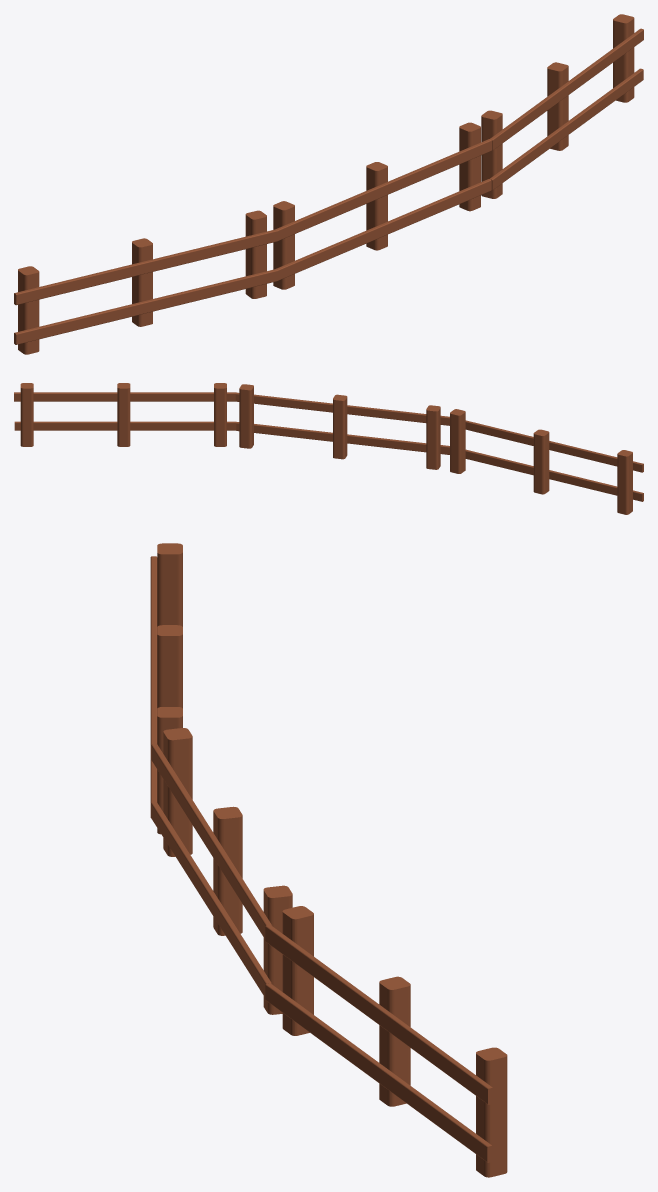
Rendered from long_fence.glb.
3 renders of one model, top to bottom at view 1: azimuth 30°, elevation 25°; view 2: azimuth 150°, elevation 25°; view 3: azimuth 270°, elevation 25°, orthographic. The views are drawn at different scales.
Visible parts, largest first — view 1: Fence.003, Fence.001, Fence.002; view 2: Fence.002, Fence.001, Fence.003; view 3: Fence.002, Fence.001, Fence.003.
Part boxes in pixels (bbox=[...]): Fence.003: bbox=[14, 210, 278, 354]; Fence.001: bbox=[273, 122, 491, 289]; Fence.002: bbox=[481, 14, 643, 198]; Fence.002: bbox=[14, 383, 236, 446]; Fence.001: bbox=[235, 384, 449, 469]; Fence.003: bbox=[450, 409, 643, 514]; Fence.002: bbox=[265, 906, 507, 1177]; Fence.001: bbox=[151, 728, 292, 1014]; Fence.003: bbox=[150, 543, 182, 834].
Bounding box in the file's own units: 9.78 × 1 × 2.77.
